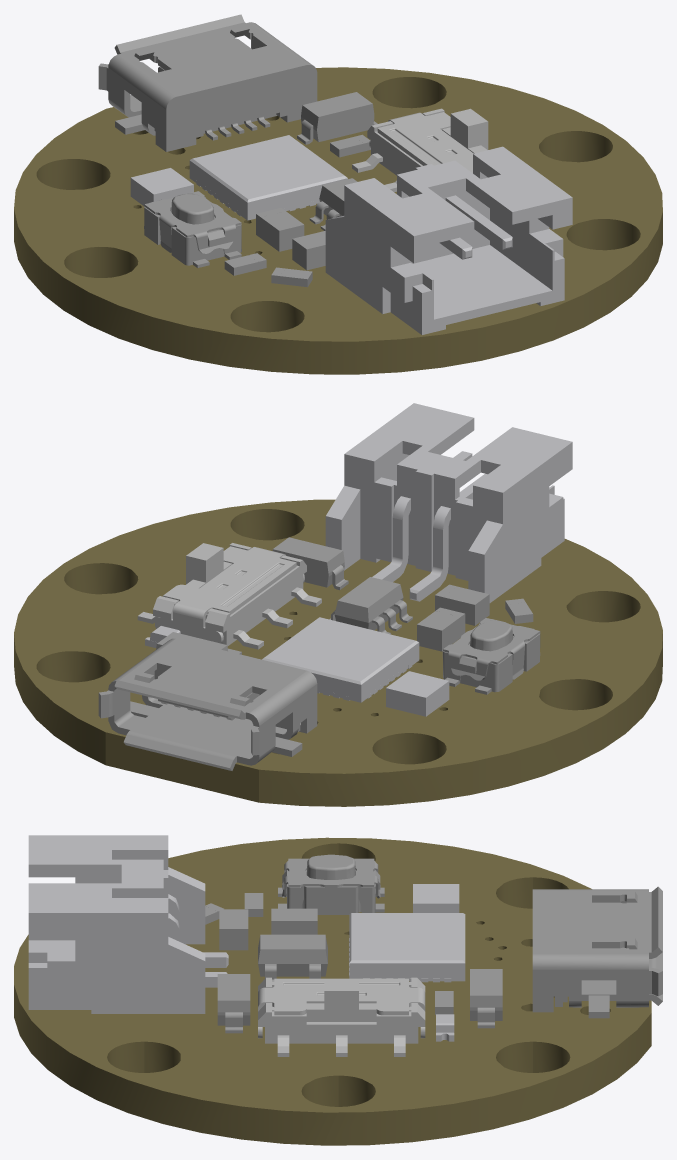
File: ada-3501.glb
3 renders of one model, top to bottom at view 1: azimuth 30°, elevation 25°; view 2: azimuth 150°, elevation 25°; view 3: azimuth 270°, elevation 25°, orthographic.
Parts seen in each view (by area): view 1: 0.16666666666666666_0.16666666666666666_0.08333333333333333_, 0.5833333333333334_0.5833333333333334_0.5833333333333334_0.8, 0.3333333333333333_0.3333333333333333_0.3333333333333333_0, 0.5_0.5_0.5_0.85; view 2: 0.16666666666666666_0.16666666666666666_0.08333333333333333_, 0.5833333333333334_0.5833333333333334_0.5833333333333334_0.8, 0.3333333333333333_0.3333333333333333_0.3333333333333333_0, 0.5_0.5_0.5_0.85; view 3: 0.16666666666666666_0.16666666666666666_0.08333333333333333_, 0.5833333333333334_0.5833333333333334_0.5833333333333334_0.8, 0.3333333333333333_0.3333333333333333_0.3333333333333333_0, 0.5_0.5_0.5_0.85.
Boxes of the visible parts, x1,y1,x2,y2 form: 0.16666666666666666_0.16666666666666666_0.08333333333333333_: (14,67,662,374); 0.5833333333333334_0.5833333333333334_0.5833333333333334_0.8: (130,135,572,334); 0.3333333333333333_0.3333333333333333_0.3333333333333333_0: (98,14,377,287); 0.5_0.5_0.5_0.85: (352,108,488,192); 0.16666666666666666_0.16666666666666666_0.08333333333333333_: (14,499,662,806); 0.5833333333333334_0.5833333333333334_0.5833333333333334_0.8: (145,403,572,716); 0.3333333333333333_0.3333333333333333_0.3333333333333333_0: (98,537,540,770); 0.5_0.5_0.5_0.85: (137,543,321,649); 0.16666666666666666_0.16666666666666666_0.08333333333333333_: (14,837,651,1145); 0.5833333333333334_0.5833333333333334_0.5833333333333334_0.8: (28,835,465,1041); 0.3333333333333333_0.3333333333333333_0.3333333333333333_0: (205,854,662,1033); 0.5_0.5_0.5_0.85: (258,977,425,1056).
Size of the model in its own units: 2.8 by 0.637 by 2.79.
